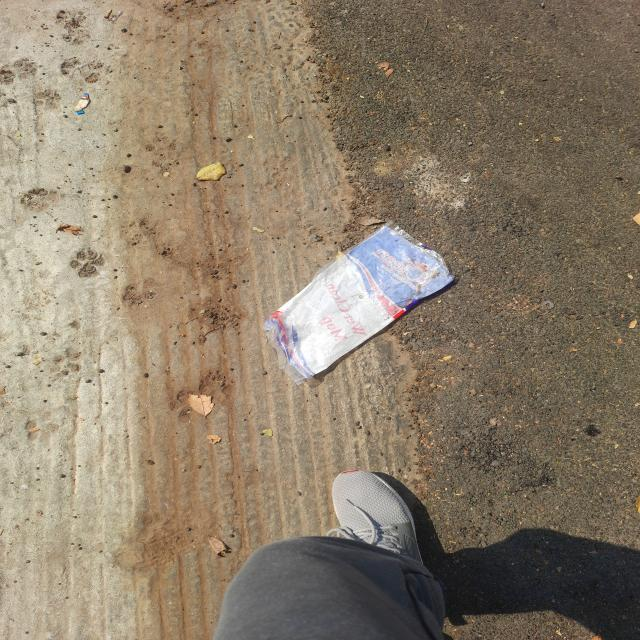Background: (0, 0, 640, 640)
Cig_pack: (73, 92, 90, 114)
Plastic_Bag: (265, 225, 453, 384)
